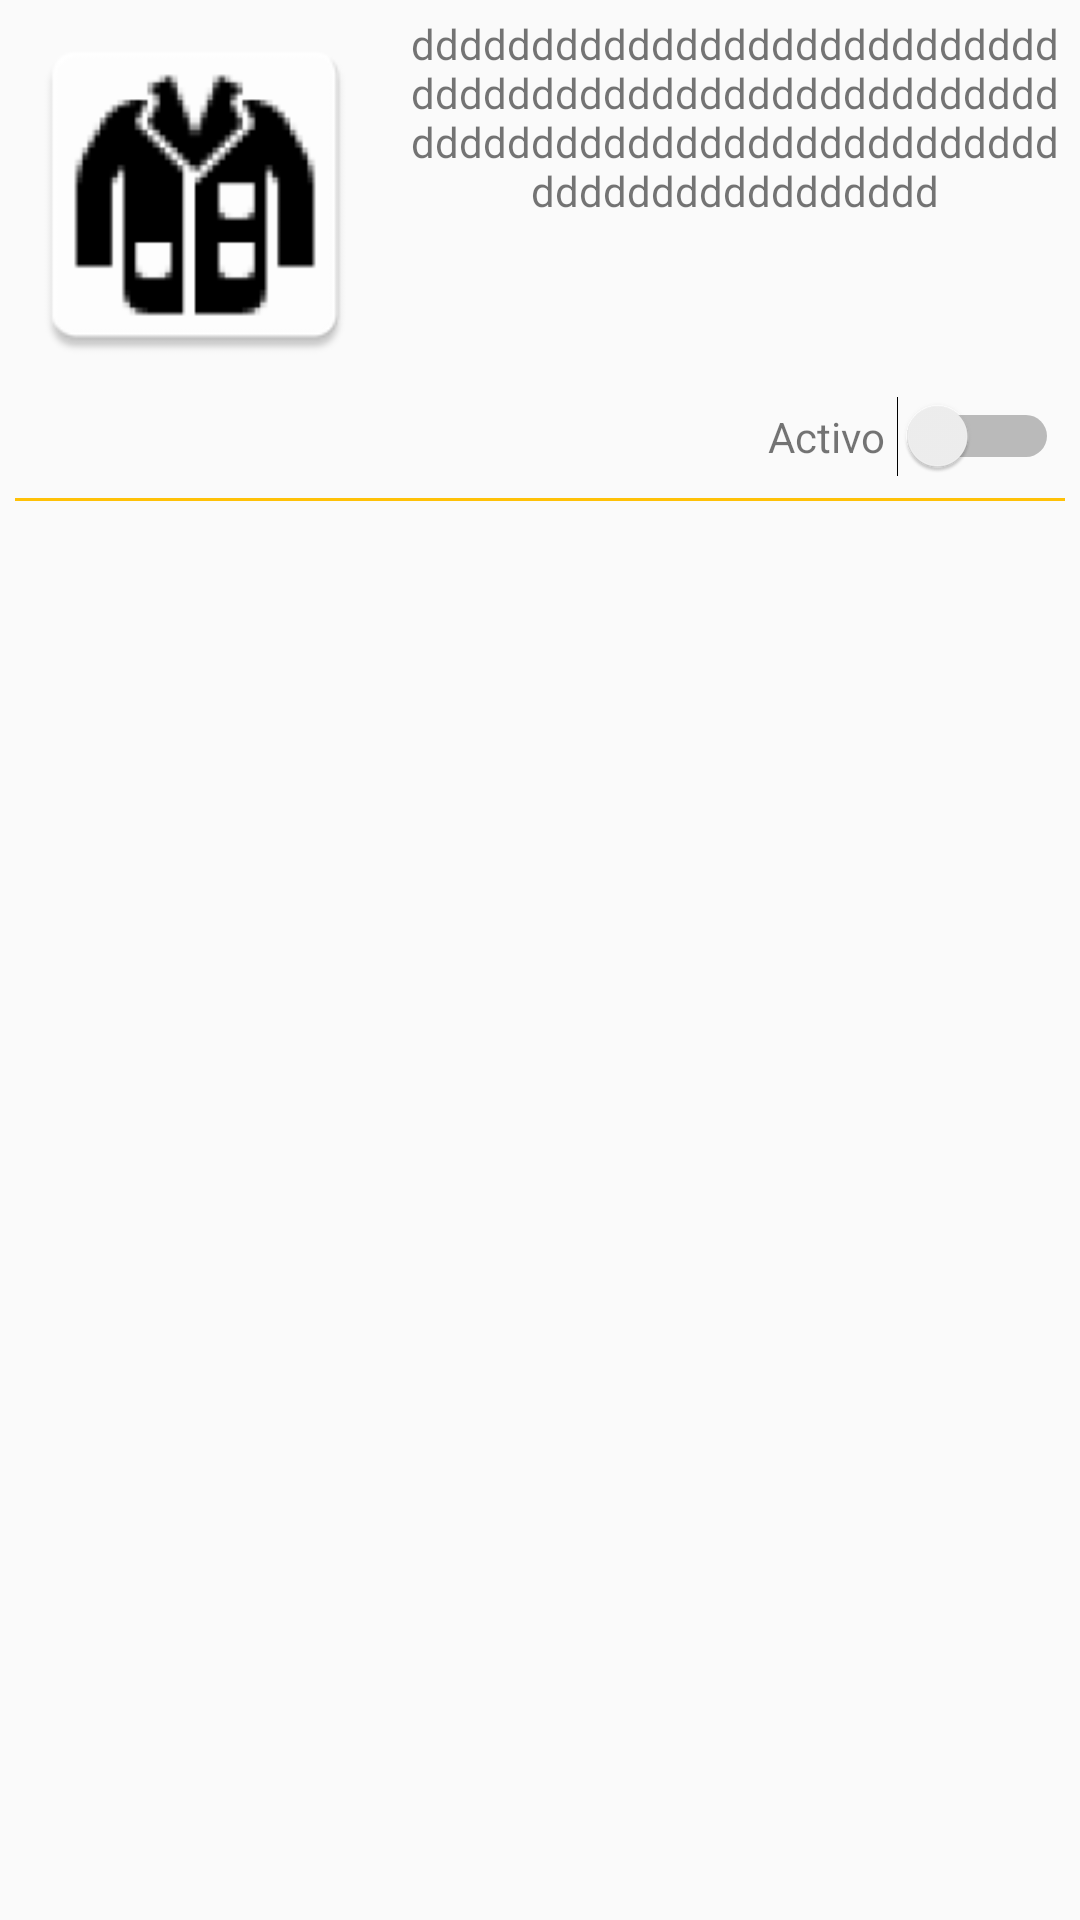

Icons on this 1080w x 1920h Android screen, each with the point to tap as (x,y):
imge clothes: (195,207)
